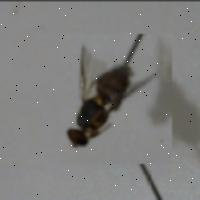Oriental-fruit-fly: (60, 32, 172, 162)
